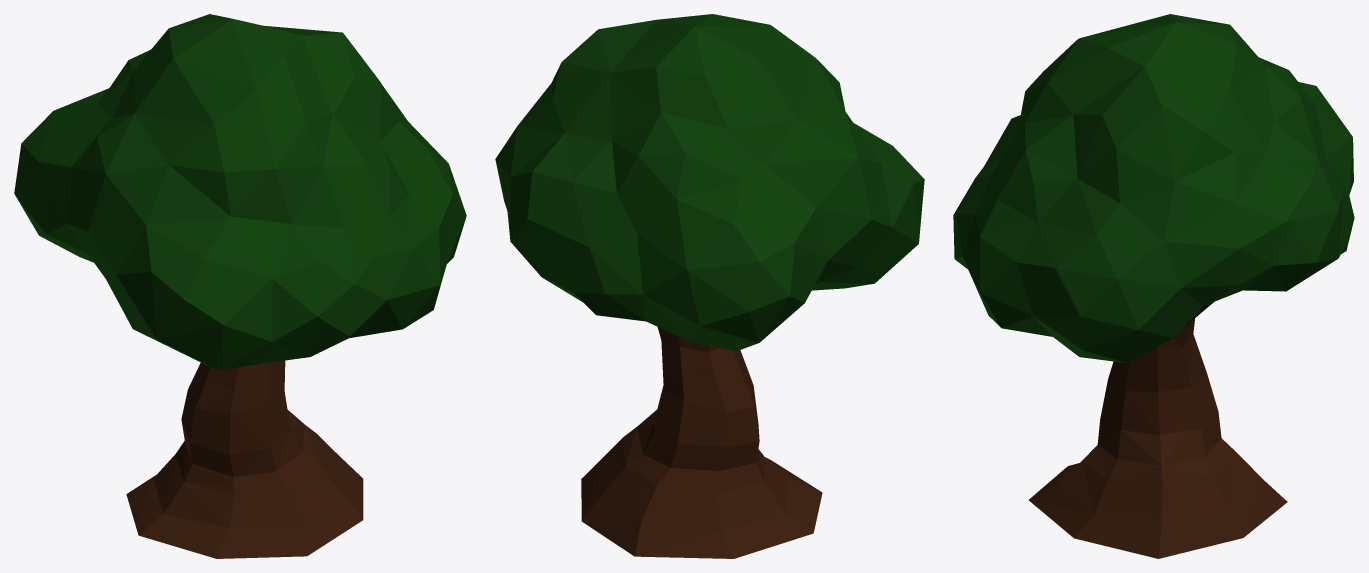
File: Tree2_Destr.FBX
3 renders of one model, left to right at view 1: azimuth 30°, elevation 25°; view 2: azimuth 150°, elevation 25°; view 3: azimuth 270°, elevation 25°, orthographic. The views are drawn at different scales.
Parts seen in each view (by area): view 1: LowPoly_Tree_02_Cube_000_Part_16, LowPoly_Tree_02_Cube_000_Part_12, LowPoly_Tree_02_Cube_000_Part_10, LowPoly_Tree_02_Cube_000_Part_20, LowPoly_Tree_02_Cube_000_Part_1_Part_3, LowPoly_Tree_02_Cube_000_Part_1_Part_5, LowPoly_Tree_02_Cube_000_Part_19, LowPoly_Tree_02_Cube_000_Part_3, LowPoly_Tree_02_Cube_000_Part_17, LowPoly_Tree_02_Cube_000_Part_15, LowPoly_Tree_02_Cube_000_Part_11, LowPoly_Tree_02_Cube_000_Part_9 (+6 smaller); view 2: LowPoly_Tree_02_Cube_000_Part_5, LowPoly_Tree_02_Cube_000_Part_14, LowPoly_Tree_02_Cube_000_Part_3, LowPoly_Tree_02_Cube_000_Part_1_Part_2, LowPoly_Tree_02_Cube_000_Part_13, LowPoly_Tree_02_Cube_000_Part_17, LowPoly_Tree_02_Cube_000_Part_1_Part_4, LowPoly_Tree_02_Cube_000_Part_16, LowPoly_Tree_02_Cube_000_Part_10, LowPoly_Tree_02_Cube_000_Part_18, LowPoly_Tree_02_Cube_000_Part_4, LowPoly_Tree_02_Cube_000_Part_1_Part_1 (+3 smaller); view 3: LowPoly_Tree_02_Cube_000_Part_18, LowPoly_Tree_02_Cube_000_Part_15, LowPoly_Tree_02_Cube_000_Part_9, LowPoly_Tree_02_Cube_000_Part_5, LowPoly_Tree_02_Cube_000_Part_1_Part_1, LowPoly_Tree_02_Cube_000_Part_1_Part_5, LowPoly_Tree_02_Cube_000_Part_12, LowPoly_Tree_02_Cube_000_Part_16, LowPoly_Tree_02_Cube_000_Part_14, LowPoly_Tree_02_Cube_000_Part_19, LowPoly_Tree_02_Cube_000_Part_1_Part_3, LowPoly_Tree_02_Cube_000_Part_6 (+5 smaller).
Part boxes in pixels (x1,y1,x2,y2): LowPoly_Tree_02_Cube_000_Part_16: (129, 33, 342, 195); LowPoly_Tree_02_Cube_000_Part_12: (199, 93, 389, 241); LowPoly_Tree_02_Cube_000_Part_10: (93, 171, 229, 370); LowPoly_Tree_02_Cube_000_Part_20: (192, 199, 339, 355); LowPoly_Tree_02_Cube_000_Part_1_Part_3: (136, 476, 363, 558); LowPoly_Tree_02_Cube_000_Part_1_Part_5: (186, 389, 344, 487); LowPoly_Tree_02_Cube_000_Part_19: (333, 209, 442, 335); LowPoly_Tree_02_Cube_000_Part_3: (39, 56, 158, 179); LowPoly_Tree_02_Cube_000_Part_17: (22, 140, 119, 273); LowPoly_Tree_02_Cube_000_Part_15: (353, 128, 466, 276); LowPoly_Tree_02_Cube_000_Part_11: (222, 270, 382, 369); LowPoly_Tree_02_Cube_000_Part_9: (332, 39, 451, 172); LowPoly_Tree_02_Cube_000_Part_5: (554, 18, 748, 164); LowPoly_Tree_02_Cube_000_Part_14: (543, 120, 711, 271); LowPoly_Tree_02_Cube_000_Part_3: (707, 85, 859, 241); LowPoly_Tree_02_Cube_000_Part_1_Part_2: (628, 435, 798, 558); LowPoly_Tree_02_Cube_000_Part_13: (657, 225, 795, 351); LowPoly_Tree_02_Cube_000_Part_17: (766, 153, 875, 313); LowPoly_Tree_02_Cube_000_Part_1_Part_4: (653, 367, 759, 464); LowPoly_Tree_02_Cube_000_Part_16: (672, 14, 855, 140); LowPoly_Tree_02_Cube_000_Part_10: (812, 127, 924, 290); LowPoly_Tree_02_Cube_000_Part_18: (495, 69, 562, 270); LowPoly_Tree_02_Cube_000_Part_4: (537, 238, 683, 338); LowPoly_Tree_02_Cube_000_Part_1_Part_1: (581, 423, 653, 552); LowPoly_Tree_02_Cube_000_Part_18: (1166, 146, 1339, 341); LowPoly_Tree_02_Cube_000_Part_15: (992, 141, 1168, 363); LowPoly_Tree_02_Cube_000_Part_9: (1073, 94, 1194, 302); LowPoly_Tree_02_Cube_000_Part_5: (1125, 17, 1299, 161); LowPoly_Tree_02_Cube_000_Part_1_Part_1: (1116, 431, 1282, 558); LowPoly_Tree_02_Cube_000_Part_1_Part_5: (1083, 375, 1181, 521); LowPoly_Tree_02_Cube_000_Part_12: (985, 63, 1091, 198); LowPoly_Tree_02_Cube_000_Part_16: (1050, 14, 1187, 112); LowPoly_Tree_02_Cube_000_Part_14: (1259, 57, 1345, 214); LowPoly_Tree_02_Cube_000_Part_19: (960, 176, 1066, 347); LowPoly_Tree_02_Cube_000_Part_1_Part_3: (1028, 459, 1121, 548); LowPoly_Tree_02_Cube_000_Part_6: (1109, 305, 1208, 390).
Size of the model in its own units: 4.64 by 6.14 by 4.67.
